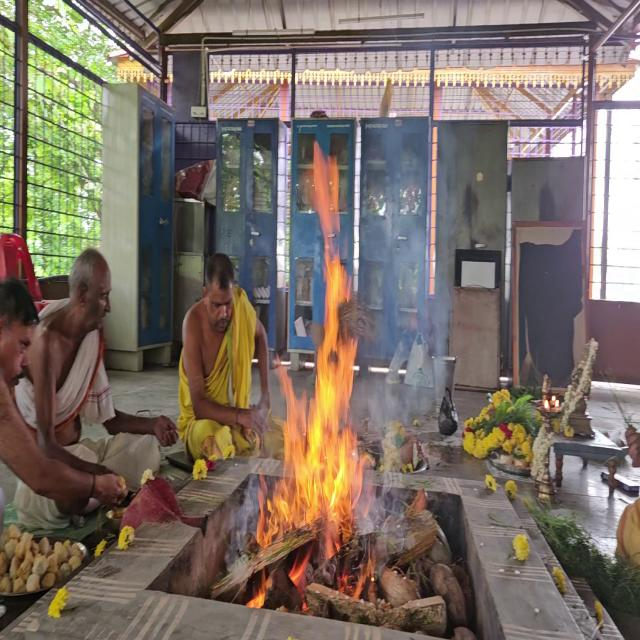fire: (257, 123, 387, 627)
